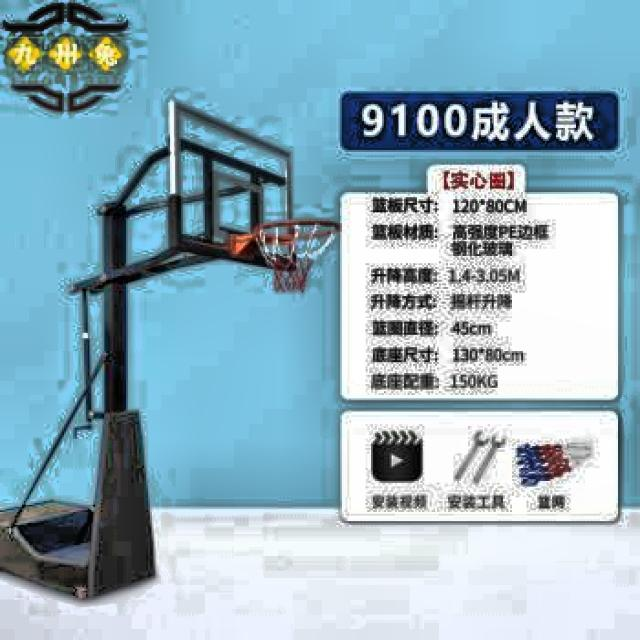rim: (251, 218, 341, 292)
